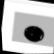correct: (20, 22, 48, 45)
